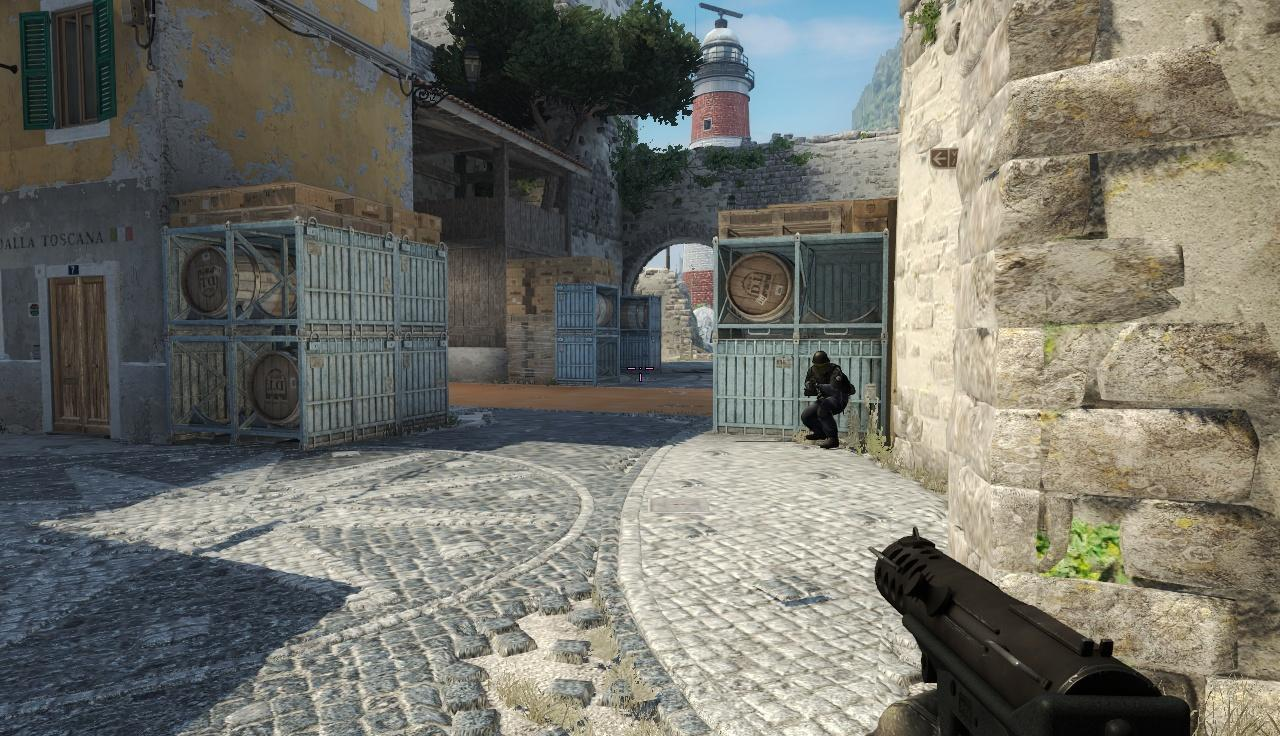ct: (807, 351, 851, 450)
cthead: (811, 350, 830, 376)
pistol: (875, 528, 1216, 736)
rifle: (875, 528, 1216, 736)
